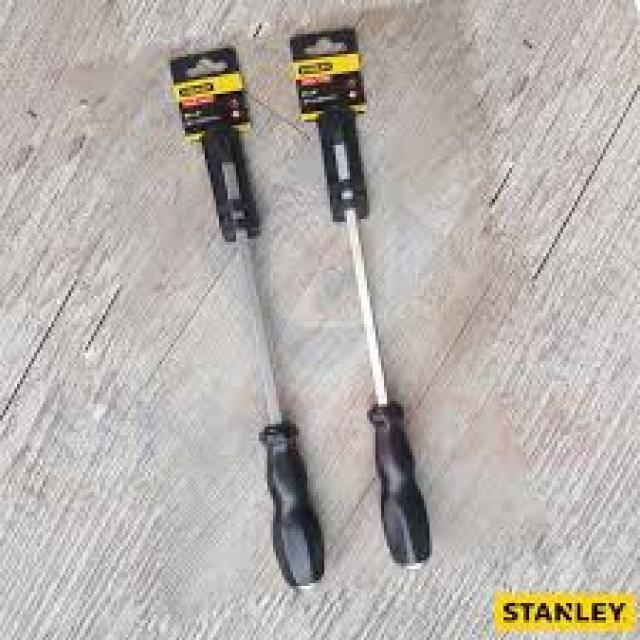screwdriver: (205, 110, 328, 598), (317, 104, 437, 579)
